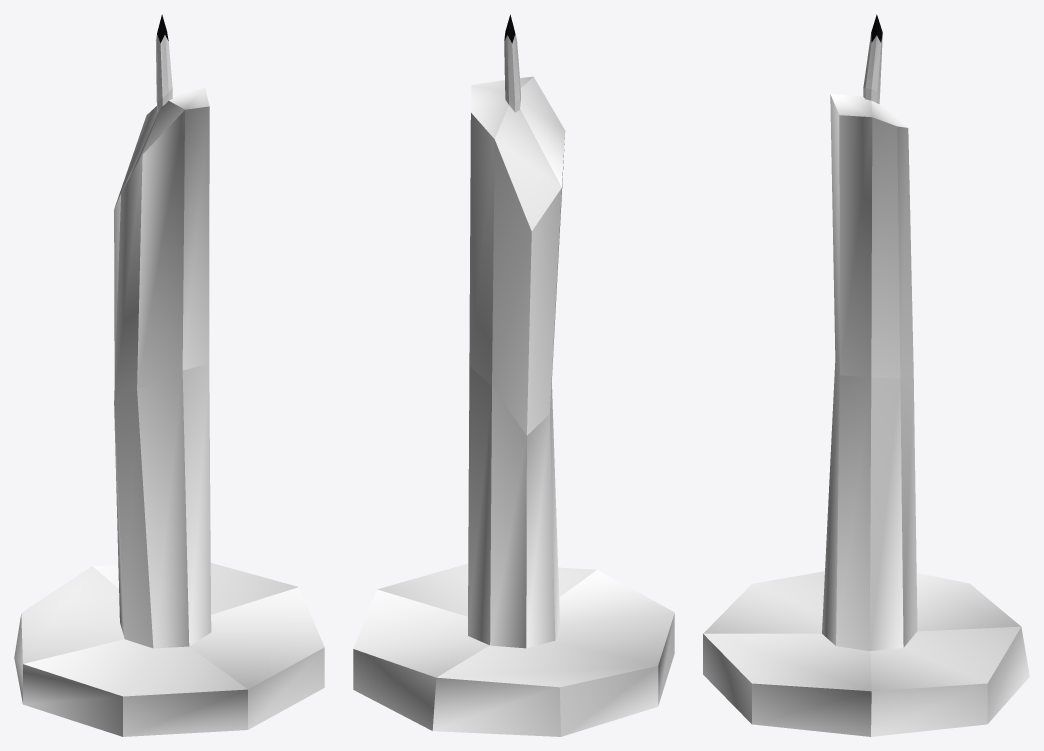
Rendered from Candle_2.fbx.
3 renders of one model, left to right at view 1: azimuth 30°, elevation 25°; view 2: azimuth 150°, elevation 25°; view 3: azimuth 270°, elevation 25°, orthographic.
Visible parts, largest first — view 1: Candle_2; view 2: Candle_2; view 3: Candle_2.
Part boxes in pixels (left/top/right/bottom): Candle_2: left=14, top=14, right=324, bottom=736; Candle_2: left=353, top=14, right=674, bottom=736; Candle_2: left=703, top=14, right=1029, bottom=736.
Size of the model in its own units: 13.95 by 31.18 by 13.93.
